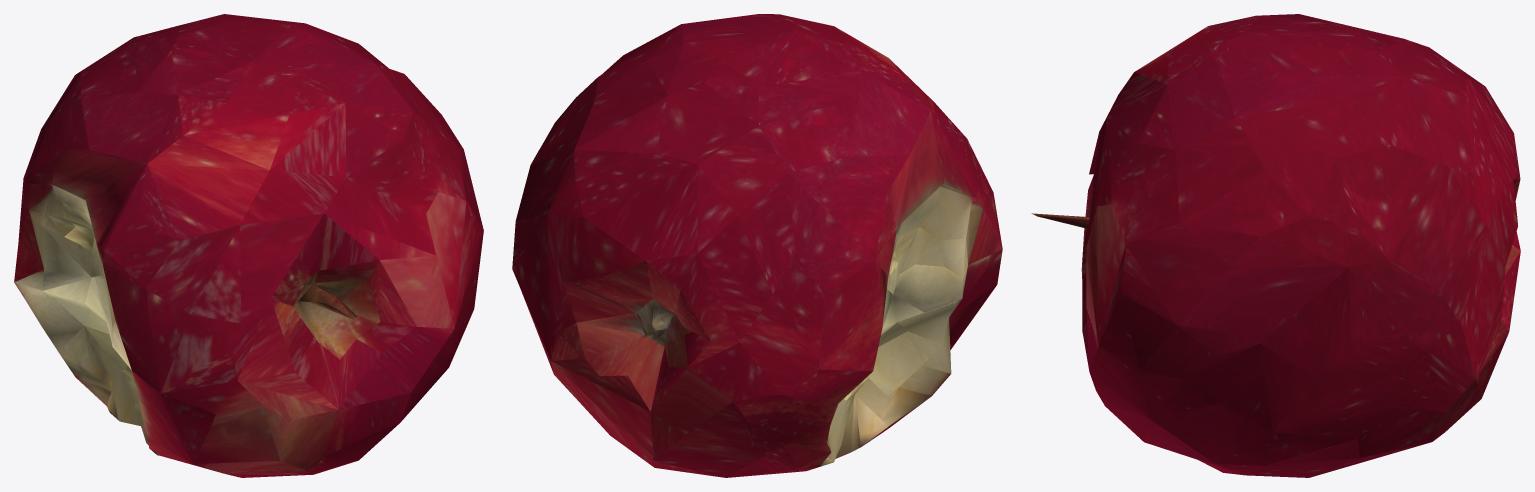
The model's file is apple_mid_lod_025.obj.
3 renders of one model, left to right at view 1: azimuth 30°, elevation 25°; view 2: azimuth 150°, elevation 25°; view 3: azimuth 270°, elevation 25°, orthographic. The views are drawn at different scales.
Size of the model in its own units: 0.7443 by 0.7555 by 0.7998.
Materials: 1 (1 with a texture image).
